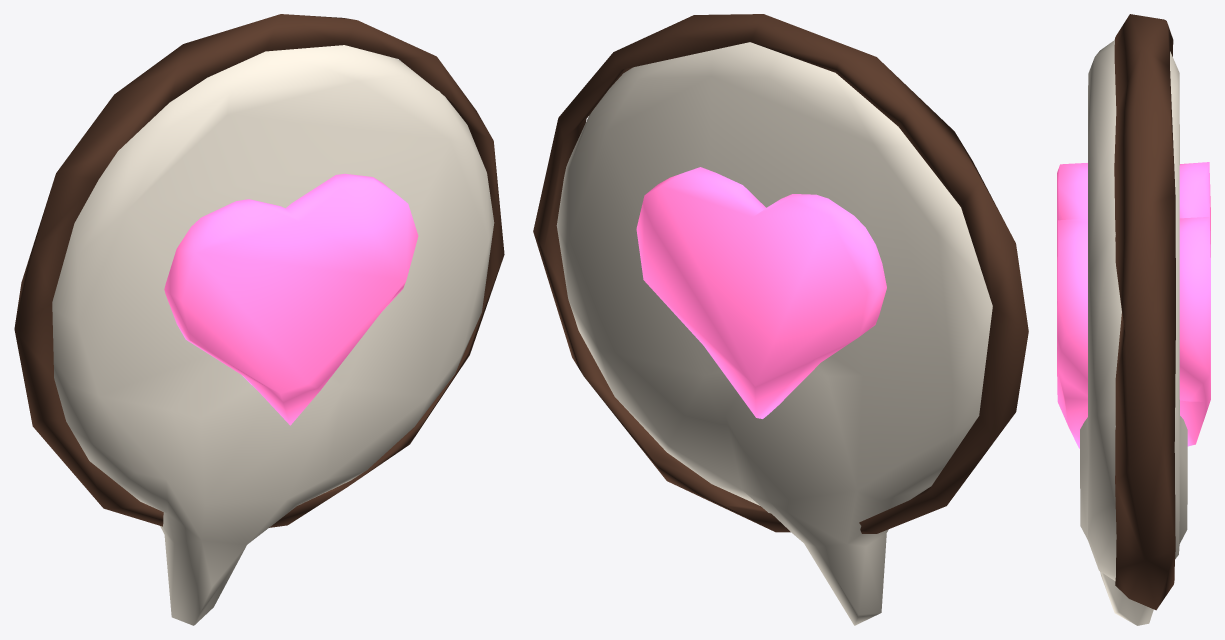
Rendered from bong_xong.glb.
3 views of the same model, side by side, from view 1: azimuth 30°, elevation 25°; view 2: azimuth 150°, elevation 25°; view 3: azimuth 270°, elevation 25° (orthographic). The views are drawn at different scales.
Parts seen in each view (by area): view 1: bong_than_xong, bong_dau_truoc_xong, bong_vien_xong; view 2: bong_than_xong, bong_dau_sau_xong, bong_vien_xong; view 3: bong_vien_xong, bong_than_xong, bong_dau_sau_xong, bong_dau_truoc_xong.
Part boxes in pixels (x1,y1,x2,y2): bong_than_xong: [52, 45, 494, 625]; bong_dau_truoc_xong: [164, 173, 418, 425]; bong_vien_xong: [14, 14, 504, 527]; bong_than_xong: [556, 42, 992, 625]; bong_dau_sau_xong: [636, 167, 886, 418]; bong_vien_xong: [533, 14, 1028, 533]; bong_vien_xong: [1114, 14, 1175, 610]; bong_than_xong: [1080, 40, 1187, 625]; bong_dau_sau_xong: [1179, 162, 1210, 446]; bong_dau_truoc_xong: [1057, 163, 1087, 448].
Size of the model in its own units: 0.3269 by 0.3761 by 0.0839.
